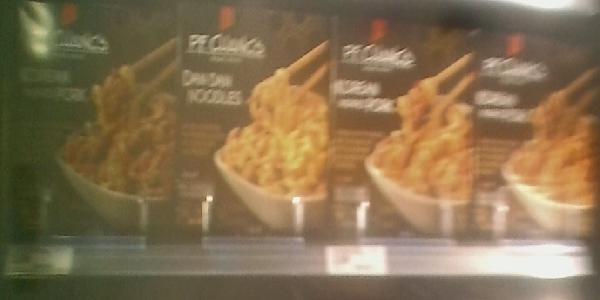pizza1: (9, 1, 174, 244), (173, 1, 334, 236), (334, 9, 475, 239), (478, 32, 600, 240)
